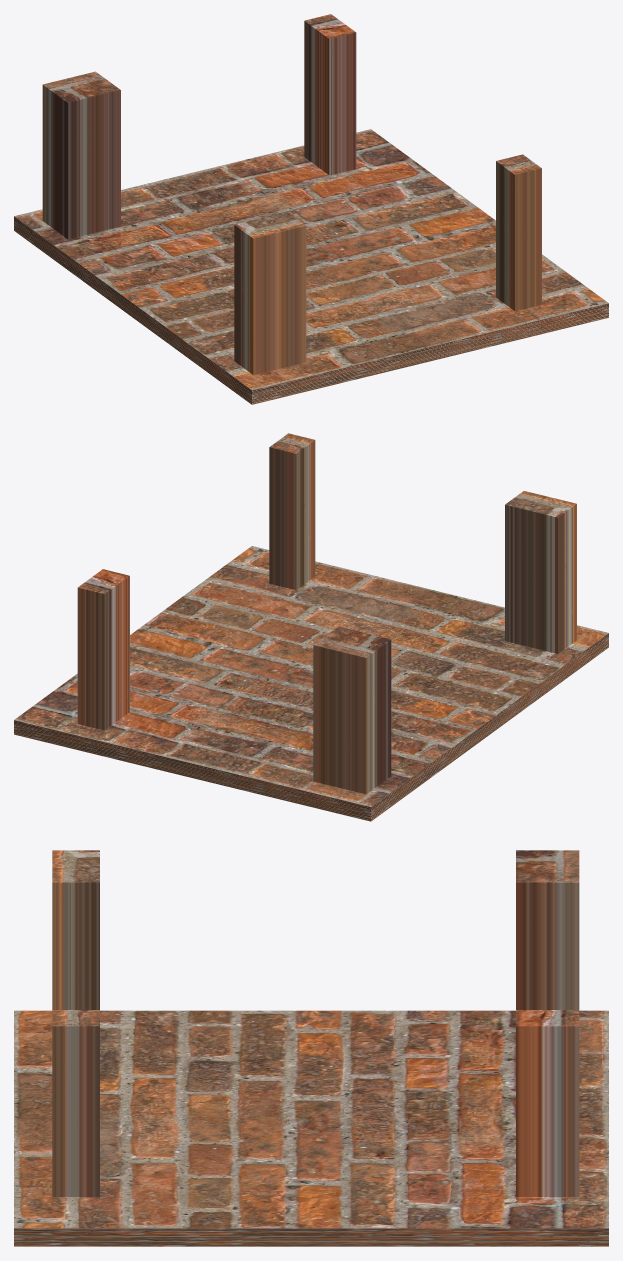
3 renders of one model, top to bottom at view 1: azimuth 30°, elevation 25°; view 2: azimuth 150°, elevation 25°; view 3: azimuth 270°, elevation 25°, orthographic. The views are drawn at different scales.
Parts seen in each view (by area): view 1: Cube; view 2: Cube; view 3: Cube.
Boxes of the visible parts, x1,y1,x2,y2 form: Cube: [14, 14, 608, 404]; Cube: [14, 433, 608, 821]; Cube: [14, 850, 608, 1246].
Size of the model in its own units: 521 by 211 by 602.
Materials: 1 (1 with a texture image).
